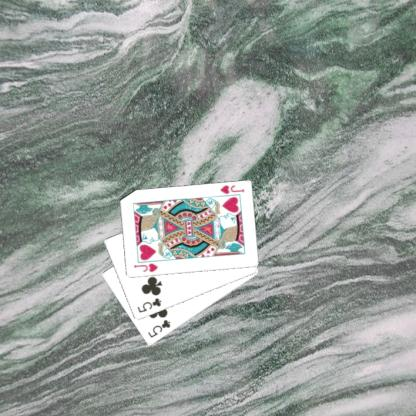5C: (145, 317, 172, 340), (135, 296, 162, 314)
JH: (131, 261, 159, 274), (217, 183, 245, 195)
